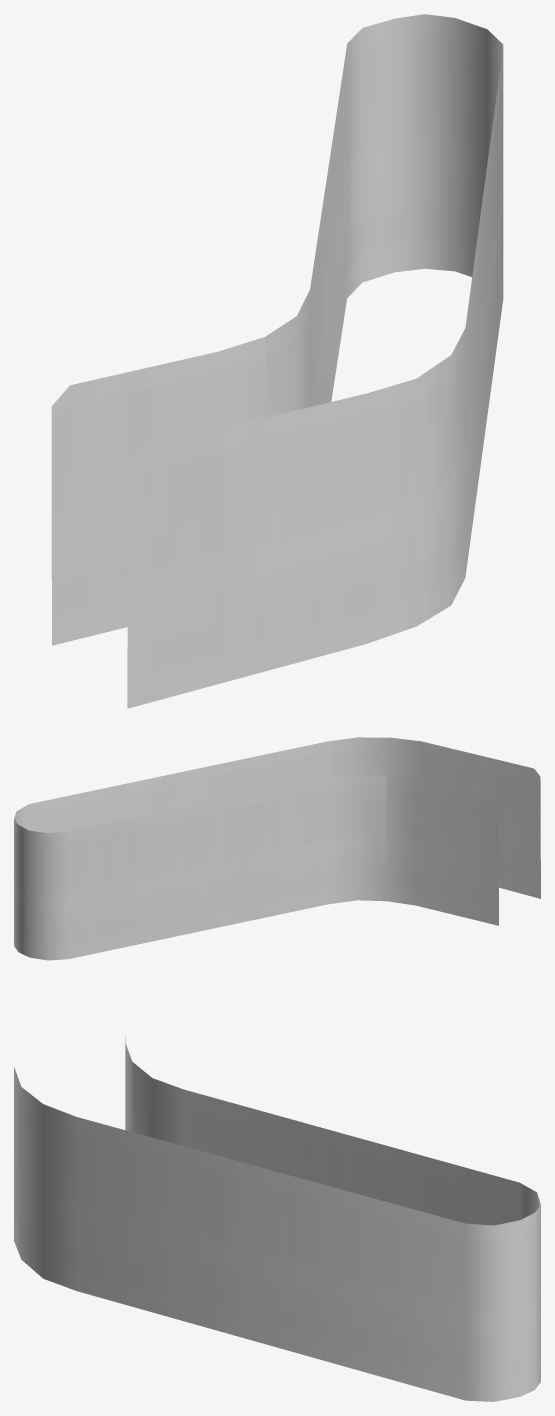
Rendered from pref_sm_city_chairblock03_holo02_snow_lv1.fbx.
3 views of the same model, one above another, from view 1: azimuth 30°, elevation 25°; view 2: azimuth 150°, elevation 25°; view 3: azimuth 270°, elevation 25° (orthographic). The views are drawn at different scales.
Parts seen in each view (by area): view 1: pref_sm_city_chairblock03_holo02_snow_lv1; view 2: pref_sm_city_chairblock03_holo02_snow_lv1; view 3: pref_sm_city_chairblock03_holo02_snow_lv1.
Part boxes in pixels (<box>): pref_sm_city_chairblock03_holo02_snow_lv1: <box>51,14,503,708</box>; pref_sm_city_chairblock03_holo02_snow_lv1: <box>14,737,540,960</box>; pref_sm_city_chairblock03_holo02_snow_lv1: <box>14,1036,540,1401</box>.
Size of the model in its own units: 3.16 by 1.11 by 2.94.
